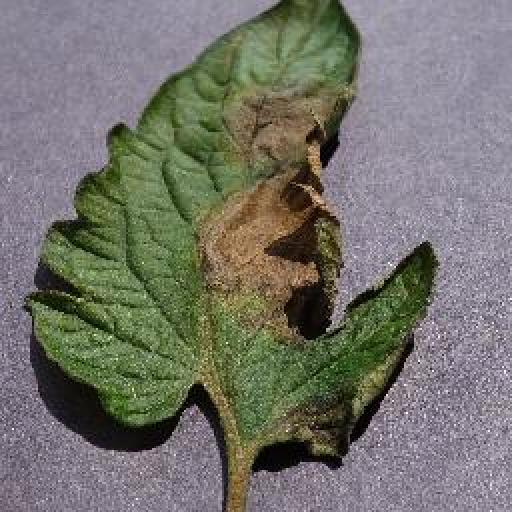disease_tomato: (20, 0, 440, 460)
